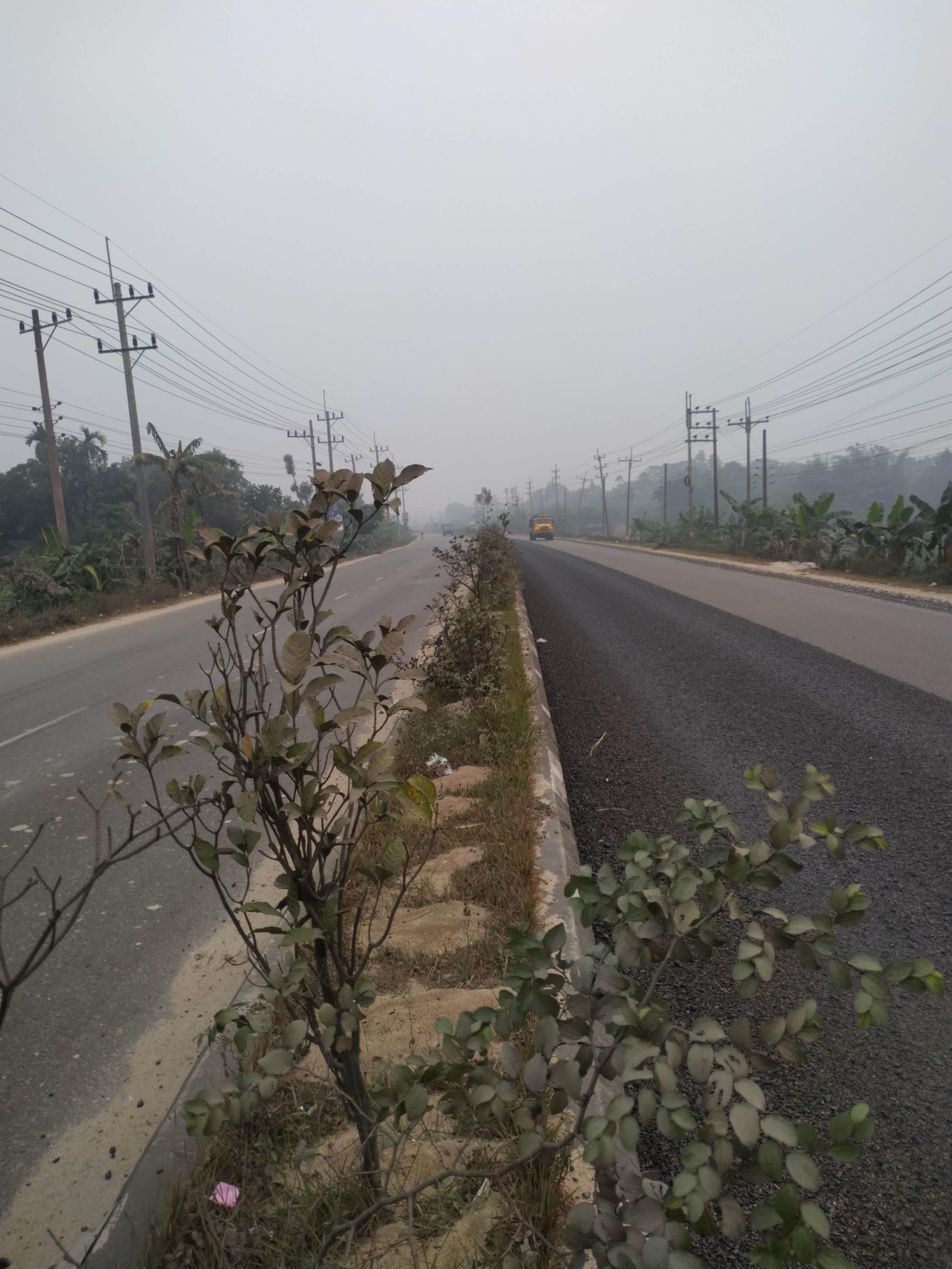Truck: (519, 509, 568, 547)
